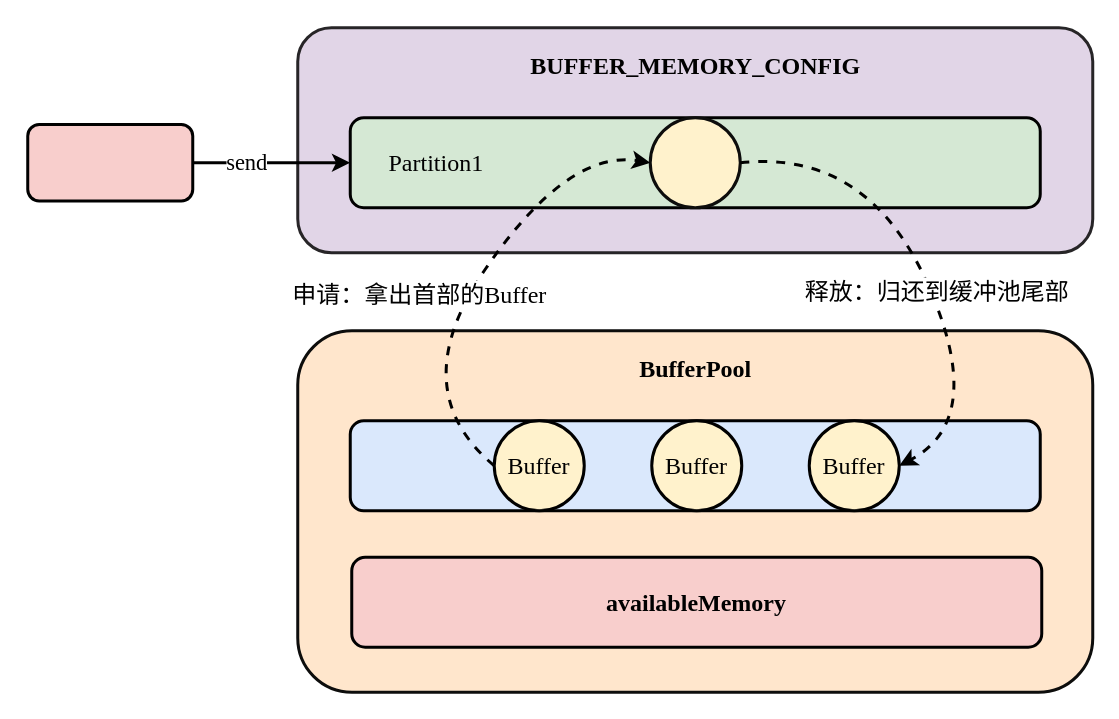
Image size: 1119x719. Some labels were removed from this diagram. The shapes that lost their labels are listed below. From the top down, each one's box as (x1, y1, x2, y2) in pixels, then its label:
(26, 122, 194, 202): Producer
(648, 116, 741, 208): Batch
(348, 418, 1041, 512): free
